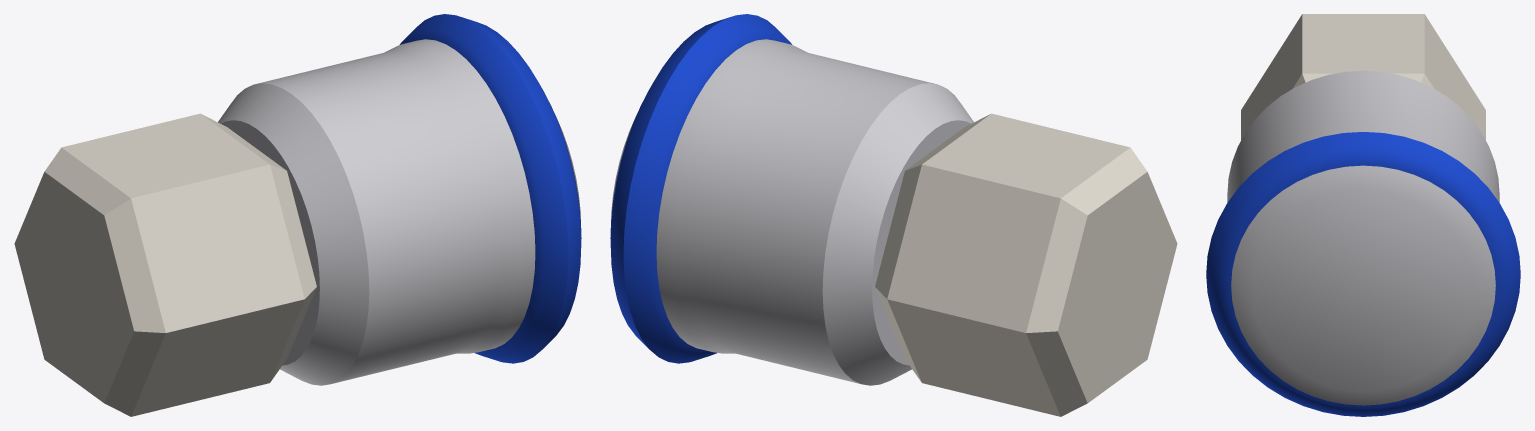
File: fitting_adp_22x12_F.glb
The picture shows the model from 3 angles, left to right: view 1: azimuth 30°, elevation 25°; view 2: azimuth 150°, elevation 25°; view 3: azimuth 270°, elevation 25°; orthographic projection. The views are drawn at different scales.
Parts seen in each view (by area): view 1: раструб, шестигранник переходника, кольцо пресс; view 2: раструб, шестигранник переходника, кольцо пресс; view 3: раструб, кольцо пресс, шестигранник переходника.
Part boxes in pixels (x1,y1,x2,y2): раструб: (218,39,580,385); шестигранник переходника: (14,113,316,416); кольцо пресс: (399,14,581,363); раструб: (611,39,973,385); шестигранник переходника: (875,113,1177,416); кольцо пресс: (610,14,792,363); раструб: (1227,70,1499,405); кольцо пресс: (1206,132,1520,416); шестигранник переходника: (1241,14,1485,140).
Size of the model in its own units: 0.051 by 0.0356 by 0.0356.
